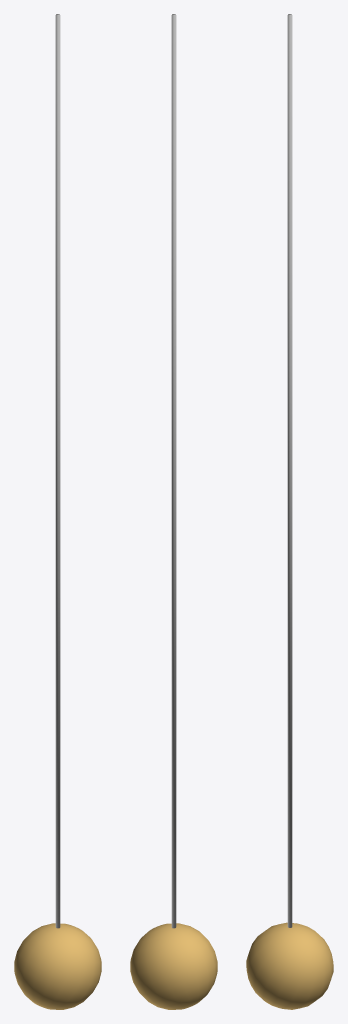
Rendered from pendulum_snake_p9.glb.
The picture shows the model from 3 angles, left to right: view 1: azimuth 30°, elevation 25°; view 2: azimuth 150°, elevation 25°; view 3: azimuth 330°, elevation 25°; orthographic projection.
Parts seen in each view (by area): view 1: Sphere9.001, Pendulum9.001; view 2: Sphere9.001, Pendulum9.001; view 3: Sphere9.001, Pendulum9.001.
Part boxes in pixels (x1=…): Sphere9.001: x1=14, y1=923, x2=101, y2=1009; Pendulum9.001: x1=55, y1=14, x2=60, y2=928; Sphere9.001: x1=130, y1=923, x2=217, y2=1009; Pendulum9.001: x1=171, y1=14, x2=176, y2=928; Sphere9.001: x1=246, y1=922, x2=333, y2=1009; Pendulum9.001: x1=287, y1=14, x2=292, y2=927.
Bounding box in the file's own units: 0.0399 × 0.5019 × 0.04.
